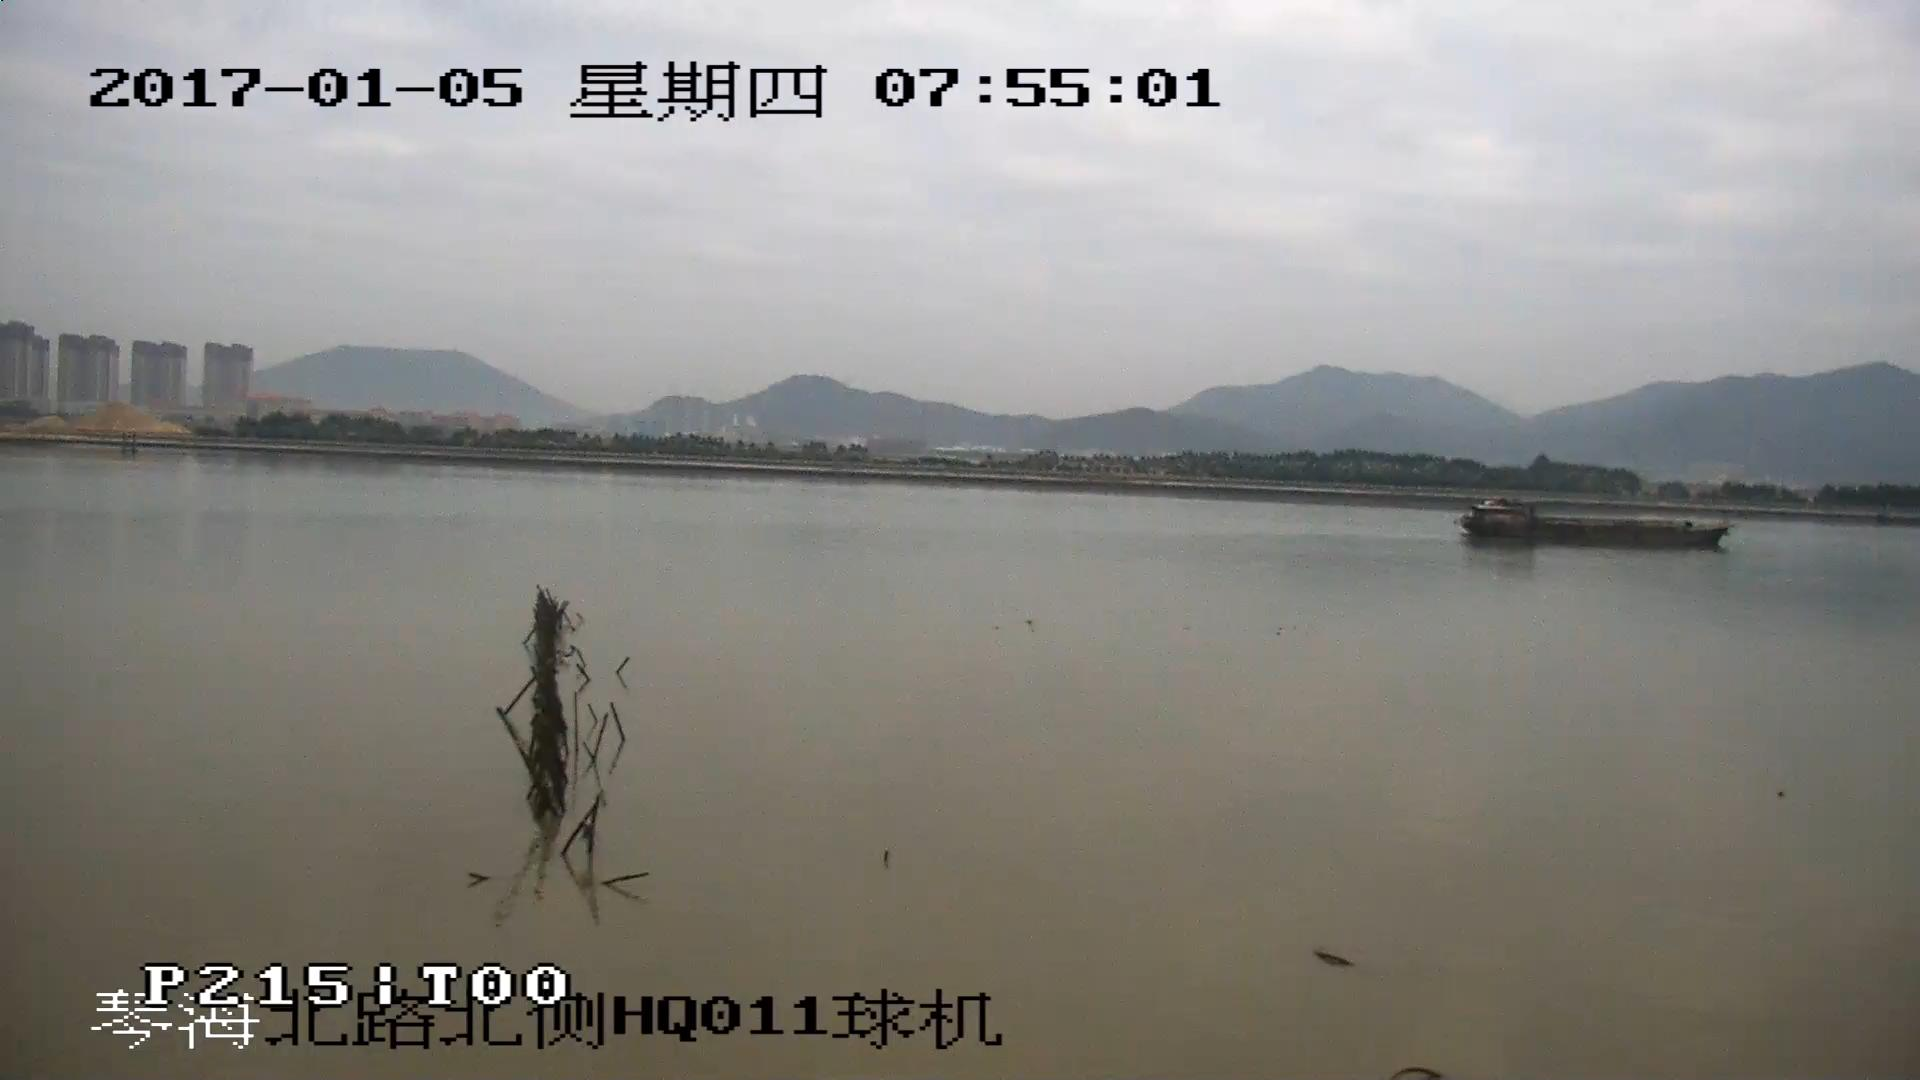bulk cargo carrier: (1454, 498, 1729, 549)
